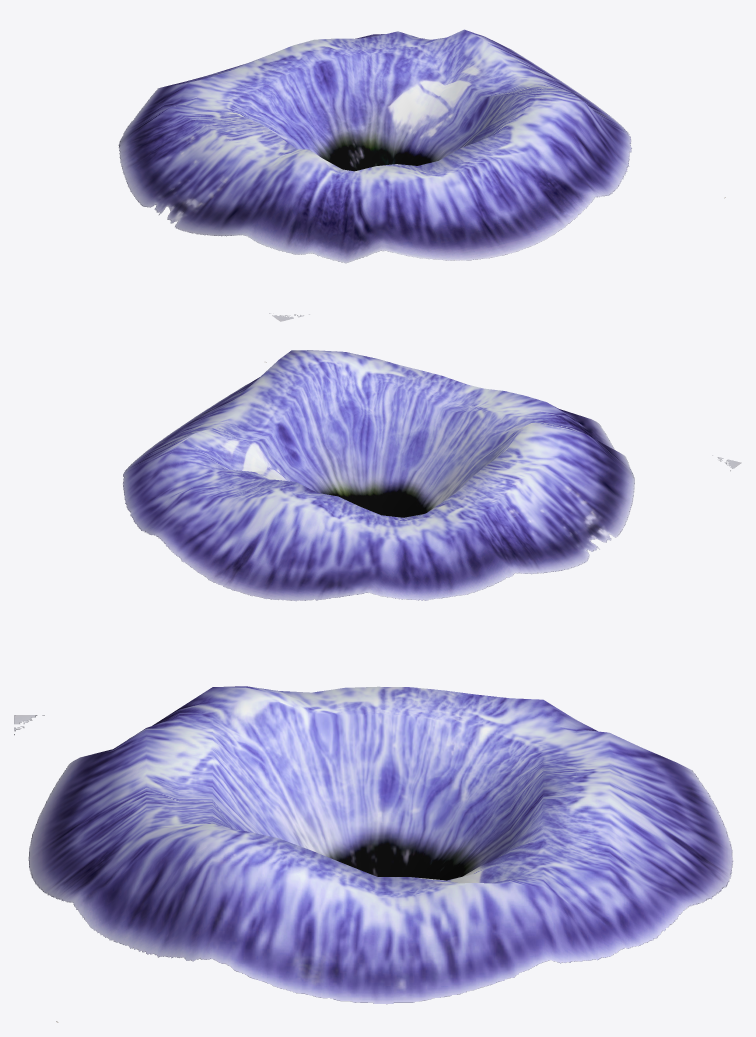
Rendered from eye.fbx.
The picture shows the model from 3 angles, top to bottom: view 1: azimuth 30°, elevation 25°; view 2: azimuth 150°, elevation 25°; view 3: azimuth 270°, elevation 25°; orthographic projection. The views are drawn at different scales.
Visible parts, largest first — view 1: Plane; view 2: Plane; view 3: Plane.
Part boxes in pixels (left/top/right/bottom): Plane: left=118, top=29, right=725, bottom=321; Plane: left=123, top=350, right=741, bottom=601; Plane: left=14, top=686, right=733, bottom=1022.
Bounding box in the file's own units: 800 × 254 × 800.
